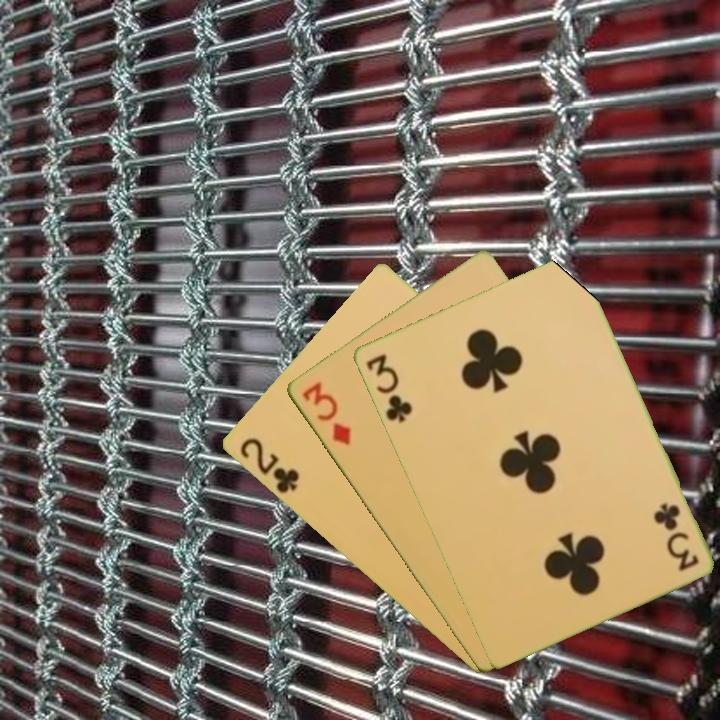2c: (236, 434, 302, 496)
3c: (362, 350, 415, 426), (651, 499, 701, 574)
3d: (298, 377, 354, 449)
